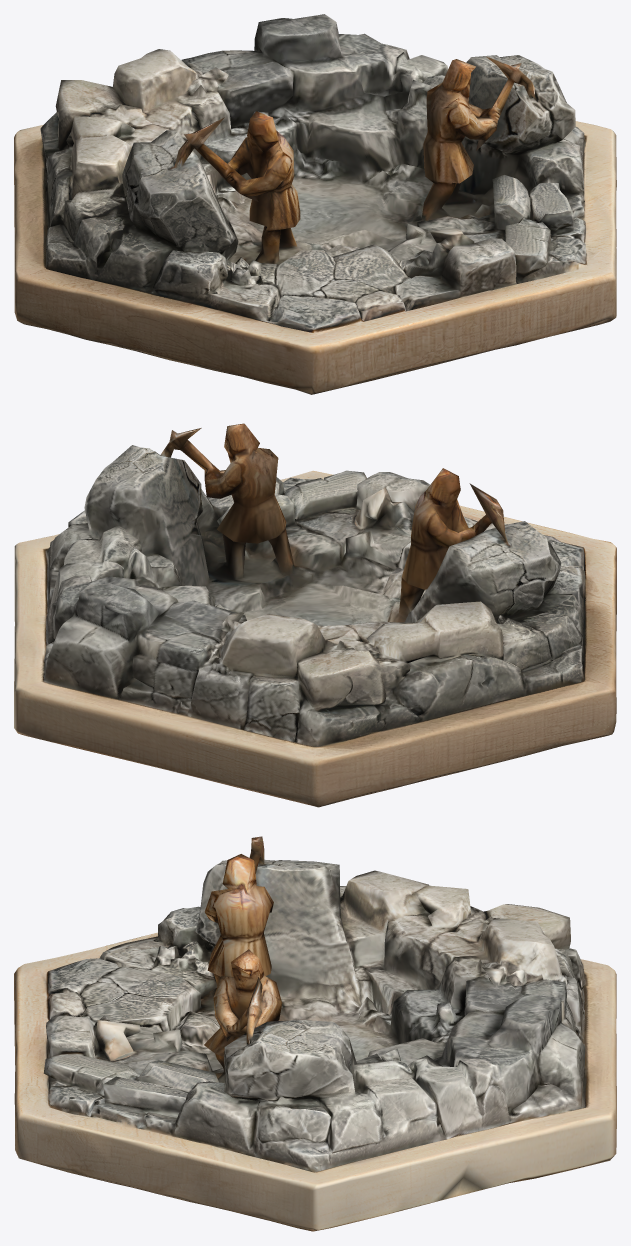
File: pilot_pueblo.glb
3 renders of one model, top to bottom at view 1: azimuth 30°, elevation 25°; view 2: azimuth 150°, elevation 25°; view 3: azimuth 270°, elevation 25°, orthographic.
Parts seen in each view (by area): view 1: tripo_node_26c498d5-a230-4d13-80a3-9492a112bad1; view 2: tripo_node_26c498d5-a230-4d13-80a3-9492a112bad1; view 3: tripo_node_26c498d5-a230-4d13-80a3-9492a112bad1.
Boxes of the visible parts, x1=… form: tripo_node_26c498d5-a230-4d13-80a3-9492a112bad1: x1=14, y1=14, x2=616, y2=394; tripo_node_26c498d5-a230-4d13-80a3-9492a112bad1: x1=14, y1=423, x2=616, y2=807; tripo_node_26c498d5-a230-4d13-80a3-9492a112bad1: x1=14, y1=836, x2=616, y2=1231.
Bounding box in the file's own units: 0.9791 × 0.2943 × 0.8525.
Materials: 1 (1 with a texture image).
